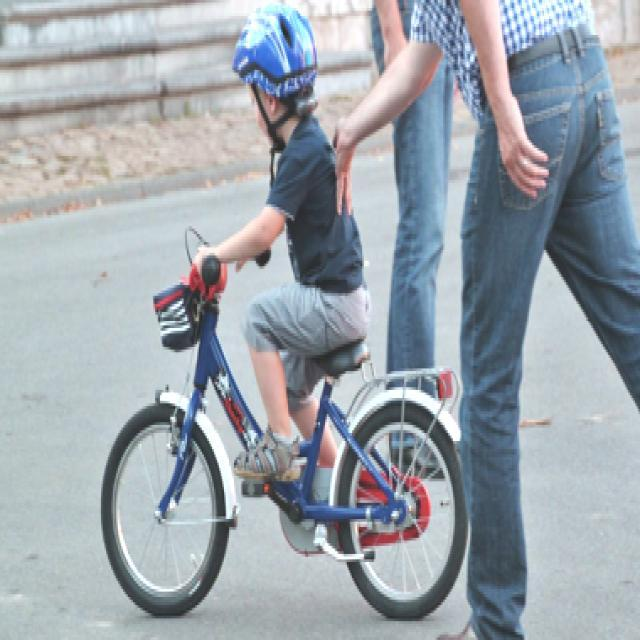Helmet: (228, 0, 318, 148)
